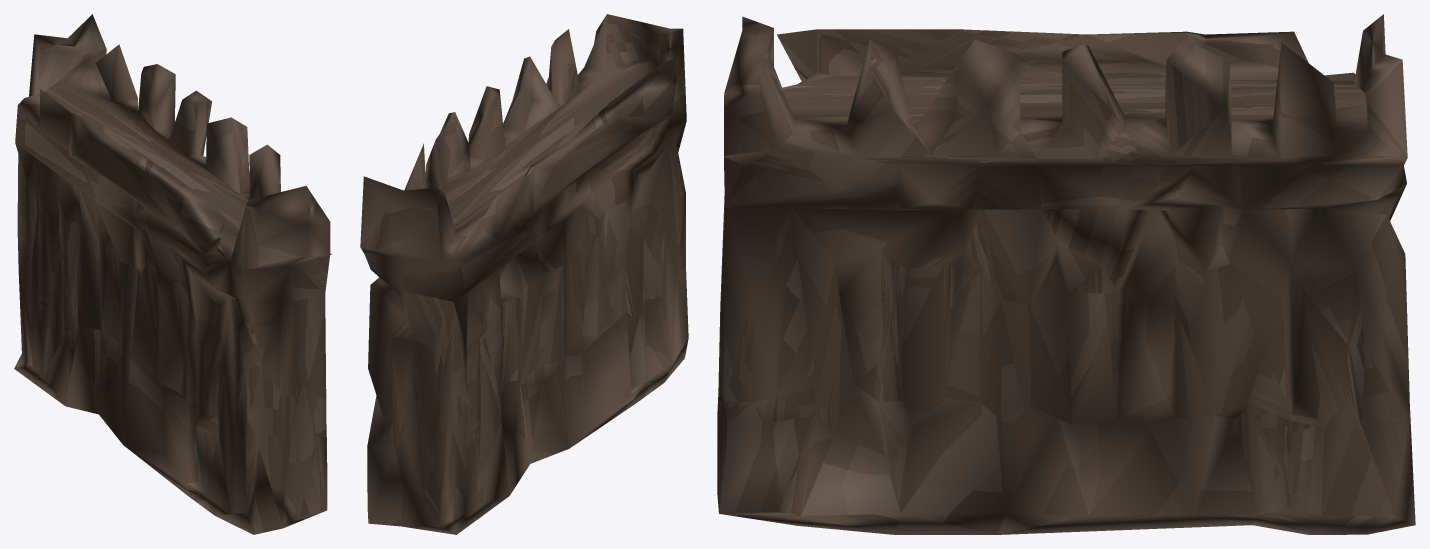
The model's file is castle_wall_wood_lo.glb.
3 views of the same model, side by side, from view 1: azimuth 30°, elevation 25°; view 2: azimuth 150°, elevation 25°; view 3: azimuth 270°, elevation 25° (orthographic). The views are drawn at different scales.
Visible parts, largest first — view 1: tripo_node_e00a12d8-df66-44d4-93df-fbb81e9339c7; view 2: tripo_node_e00a12d8-df66-44d4-93df-fbb81e9339c7; view 3: tripo_node_e00a12d8-df66-44d4-93df-fbb81e9339c7.
Boxes of the visible parts, x1=… form: tripo_node_e00a12d8-df66-44d4-93df-fbb81e9339c7: x1=14, y1=14, x2=331, y2=534; tripo_node_e00a12d8-df66-44d4-93df-fbb81e9339c7: x1=360, y1=14, x2=688, y2=534; tripo_node_e00a12d8-df66-44d4-93df-fbb81e9339c7: x1=717, y1=14, x2=1415, y2=534.
Bounding box in the file's own units: 0.224 × 0.7418 × 0.9687.
1 material, 1 textured.
